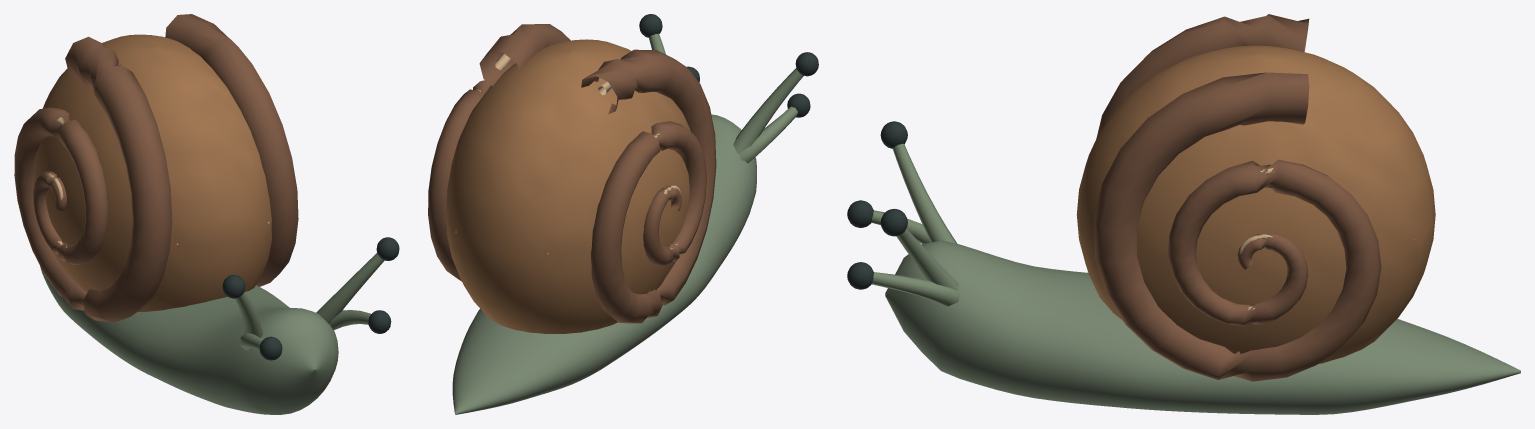
The model's file is snail.glb.
3 views of the same model, side by side, from view 1: azimuth 30°, elevation 25°; view 2: azimuth 150°, elevation 25°; view 3: azimuth 270°, elevation 25° (orthographic). The views are drawn at different scales.
Visible parts, largest first — view 1: body; view 2: body; view 3: body.
Part boxes in pixels (x1,y1,x2,y2): body: (14,14,399,414); body: (428,14,818,414); body: (847,14,1520,414).
Size of the model in its own units: 0.9167 by 1.3 by 2.22.
